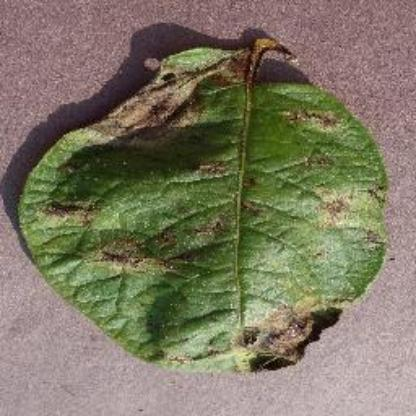Late-Blight: (19, 32, 392, 376)
